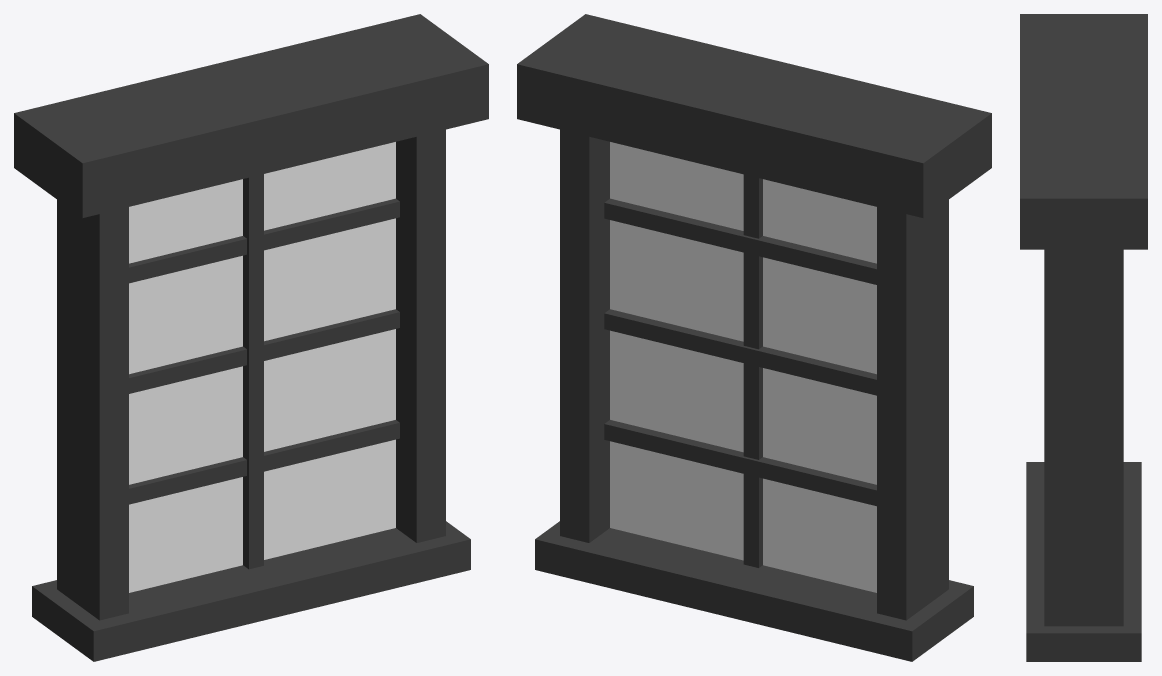
Rendered from window.glb.
3 views of the same model, side by side, from view 1: azimuth 30°, elevation 25°; view 2: azimuth 150°, elevation 25°; view 3: azimuth 270°, elevation 25° (orthographic). The views are drawn at different scales.
Parts seen in each view (by area): view 1: window.051; view 2: window.051; view 3: window.051.
Part boxes in pixels (bbox=[...]): window.051: bbox=[14, 14, 488, 661]; window.051: bbox=[517, 14, 991, 661]; window.051: bbox=[1020, 14, 1147, 661].
Bounding box in the file's own units: 1.62 × 1.93 × 0.4745.
Materials: 2 (1 with a texture image).
